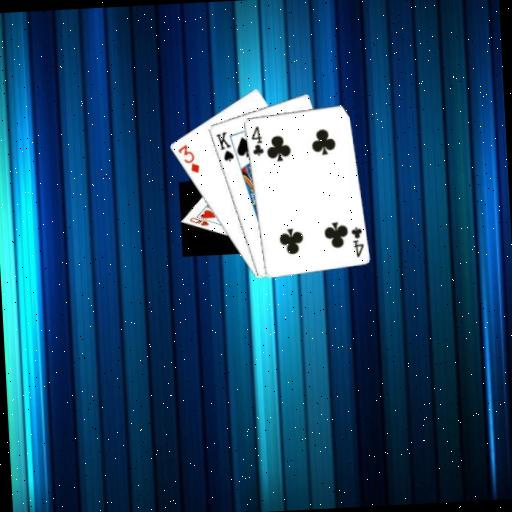3D: (174, 141, 201, 176)
4C: (348, 223, 366, 259), (247, 123, 265, 158)
KS: (212, 128, 235, 164)
